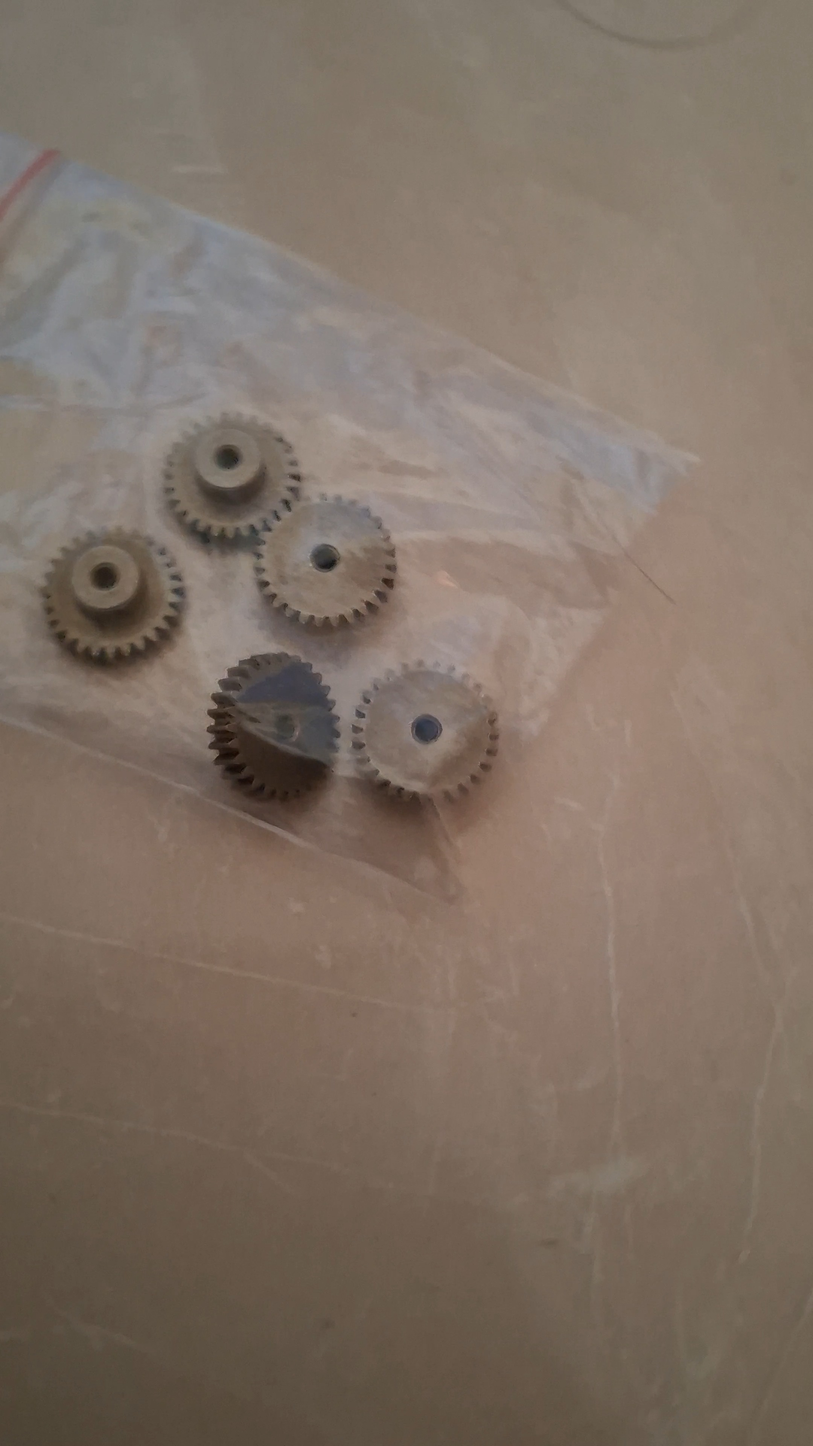spur gear: (352, 662, 497, 800), (208, 652, 338, 799), (42, 529, 184, 662), (255, 495, 396, 625), (164, 415, 300, 539)
